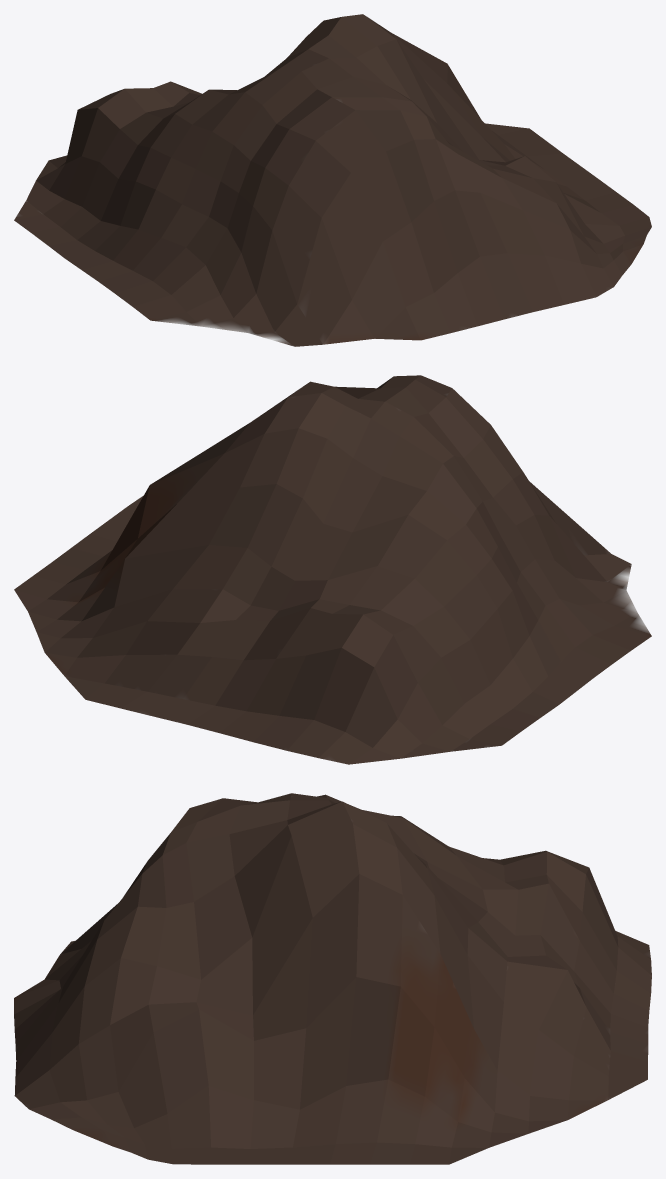
Rendered from PileofDirt.fbx.
The picture shows the model from 3 angles, top to bottom: view 1: azimuth 30°, elevation 25°; view 2: azimuth 150°, elevation 25°; view 3: azimuth 270°, elevation 25°; orthographic projection. The views are drawn at different scales.
Parts seen in each view (by area): view 1: Plane; view 2: Plane; view 3: Plane.
Part boxes in pixels (left/top/right/bottom): Plane: left=14, top=14, right=651, bottom=346; Plane: left=14, top=375, right=651, bottom=764; Plane: left=14, top=793, right=651, bottom=1164.
Size of the model in its own units: 128 by 51.67 by 128.
